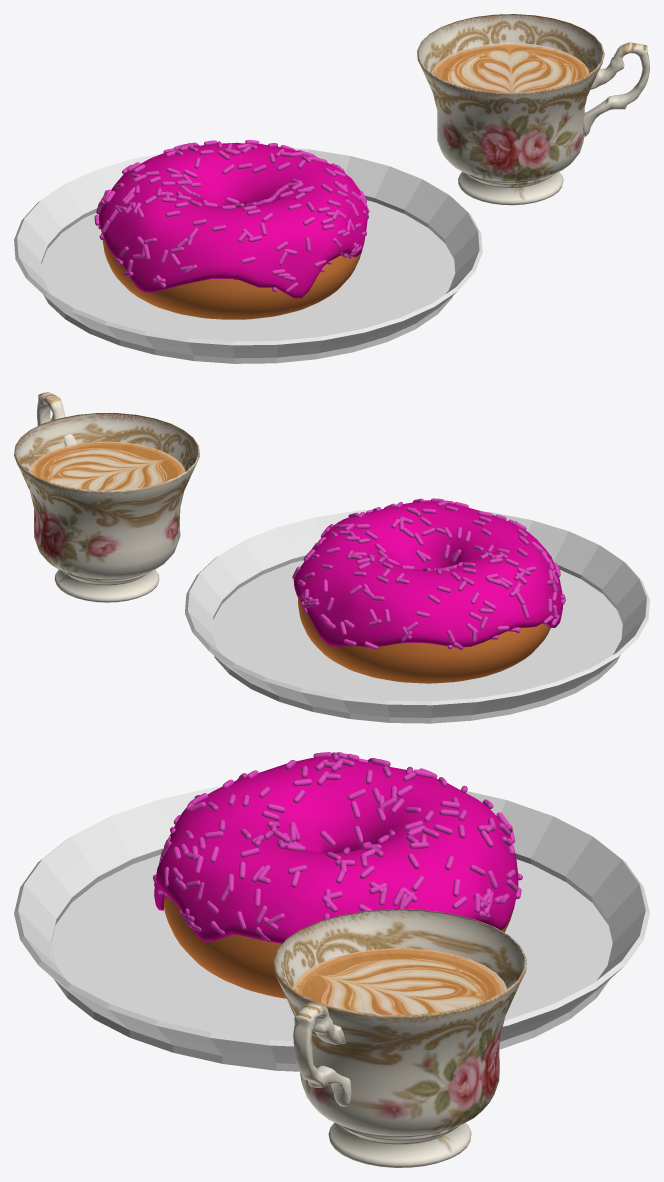
File: Cafezin.glb
The picture shows the model from 3 angles, top to bottom: view 1: azimuth 30°, elevation 25°; view 2: azimuth 150°, elevation 25°; view 3: azimuth 270°, elevation 25°; orthographic projection. The views are drawn at different scales.
Parts seen in each view (by area): view 1: Circle.001, Torus.001, Circle; view 2: Circle.001, Torus.001, Circle; view 3: Circle.001, Torus.001, Circle.
Part boxes in pixels (left/top/right/bottom): Circle.001: left=14, top=148, right=482, bottom=363; Torus.001: left=94, top=140, right=369, bottom=319; Circle: left=417, top=14, right=649, bottom=205; Circle.001: left=185, top=508, right=649, bottom=723; Torus.001: left=292, top=498, right=565, bottom=683; Circle: left=14, top=392, right=199, bottom=602; Circle.001: left=14, top=786, right=649, bottom=1071; Torus.001: left=153, top=752, right=522, bottom=998; Circle: left=273, top=909, right=526, bottom=1167.
Size of the model in its own units: 8.63 by 2.09 by 5.89.
5 materials, 2 textured.
